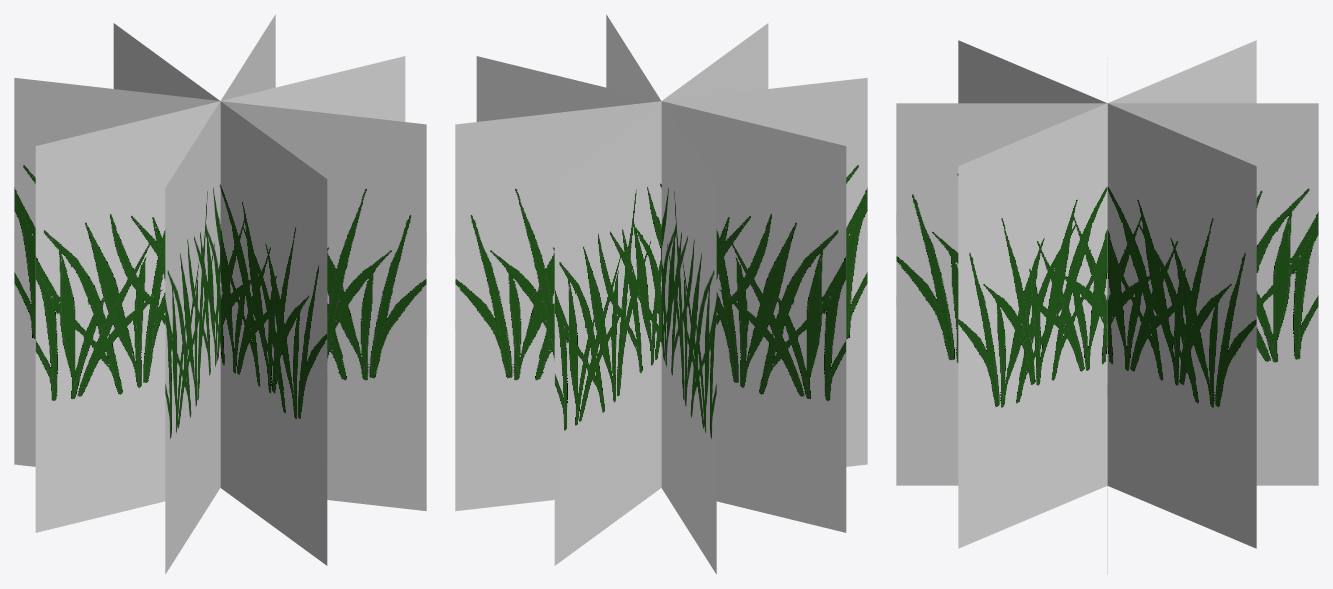
3 views of the same model, side by side, from view 1: azimuth 30°, elevation 25°; view 2: azimuth 150°, elevation 25°; view 3: azimuth 270°, elevation 25° (orthographic).
Visible parts, largest first — view 1: Plane.002, Plane.001, Plane, Plane.003; view 2: Plane.002, Plane.003, Plane, Plane.001; view 3: Plane.001, Plane.003, Plane.
Boxes of the visible parts, x1,y1,x2,y2 form: Plane.002: (35, 56, 405, 532); Plane.001: (14, 77, 426, 511); Plane: (113, 23, 327, 565); Plane.003: (165, 14, 275, 574); Plane.002: (476, 56, 846, 532); Plane.003: (455, 77, 867, 511); Plane: (554, 23, 768, 565); Plane.001: (606, 14, 716, 574); Plane.001: (958, 40, 1256, 548); Plane.003: (958, 40, 1256, 548); Plane: (896, 103, 1318, 485).
Size of the model in its own units: 2 by 2 by 2.
Materials: 1 (1 with a texture image).
